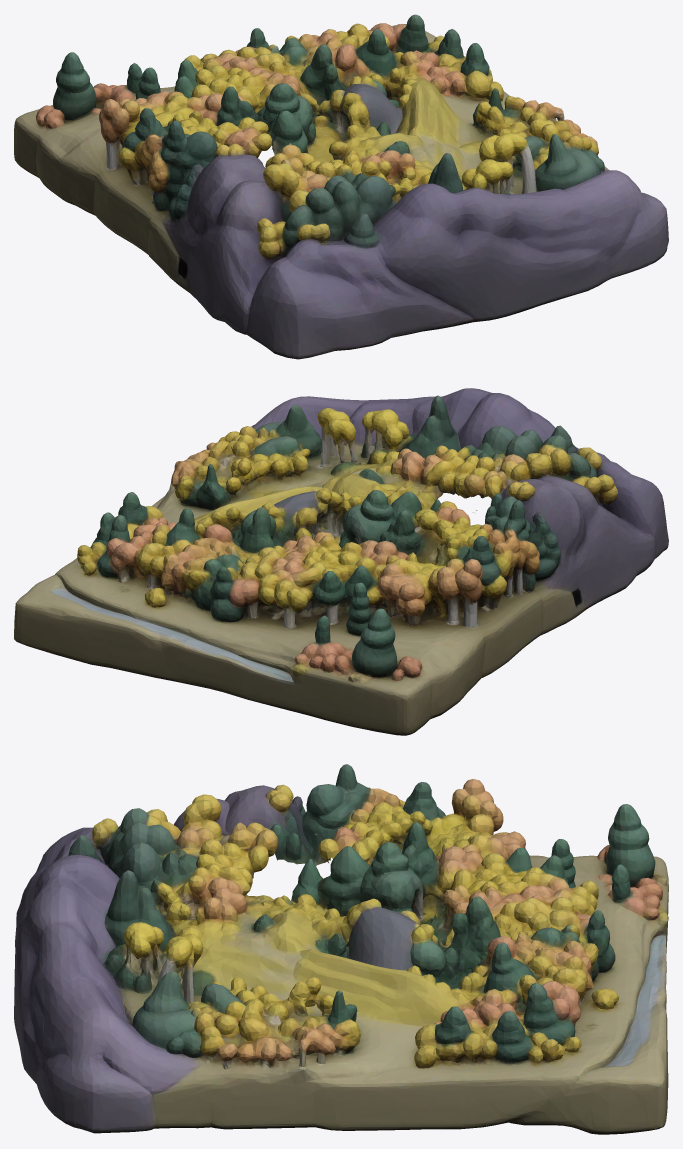
The model's file is fishlake-national-forest.glb.
The picture shows the model from 3 angles, top to bottom: view 1: azimuth 30°, elevation 25°; view 2: azimuth 150°, elevation 25°; view 3: azimuth 270°, elevation 25°; orthographic projection. The views are drawn at different scales.
Visible parts, largest first — view 1: geometry_0; view 2: geometry_0; view 3: geometry_0.
Part boxes in pixels (<box>): geometry_0: <box>14,14,668,359</box>; geometry_0: <box>14,388,668,735</box>; geometry_0: <box>14,764,668,1134</box>.
Size of the model in its own units: 0.8425 by 0.2738 by 0.9892.
1 material, 1 textured.
